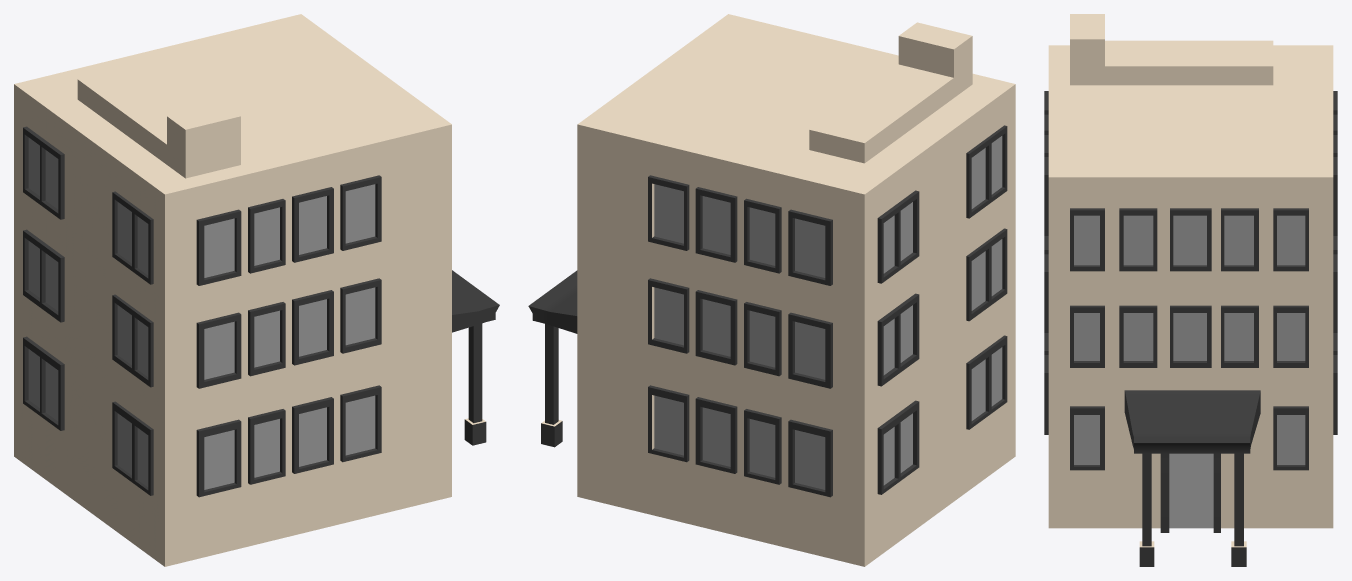
Rendered from building1_wanwan.fbx.
3 renders of one model, left to right at view 1: azimuth 30°, elevation 25°; view 2: azimuth 150°, elevation 25°; view 3: azimuth 270°, elevation 25°, orthographic. The views are drawn at different scales.
Parts seen in each view (by area): view 1: building_1; view 2: building_1; view 3: building_1.
Part boxes in pixels (x1,y1,x2,y2): building_1: (14,14,499,566); building_1: (528,14,1015,566); building_1: (1044,14,1337,566).
Size of the model in its own units: 19.59 by 20.55 by 13.73.
